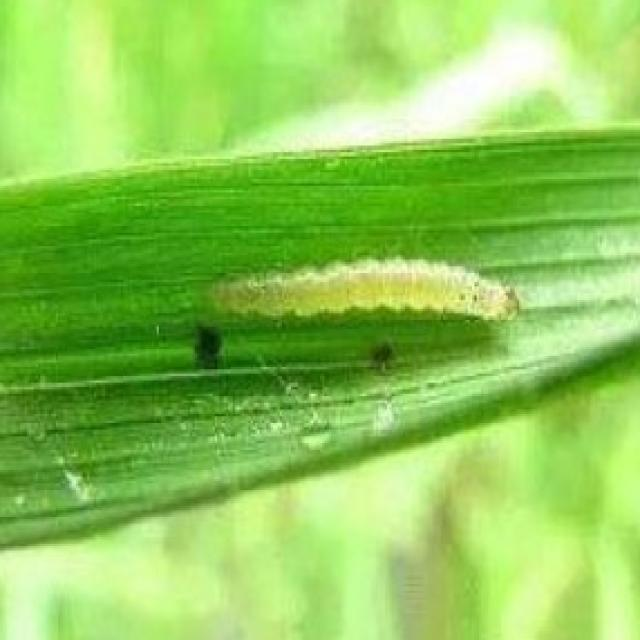rice leaf roller: (210, 260, 517, 318)
